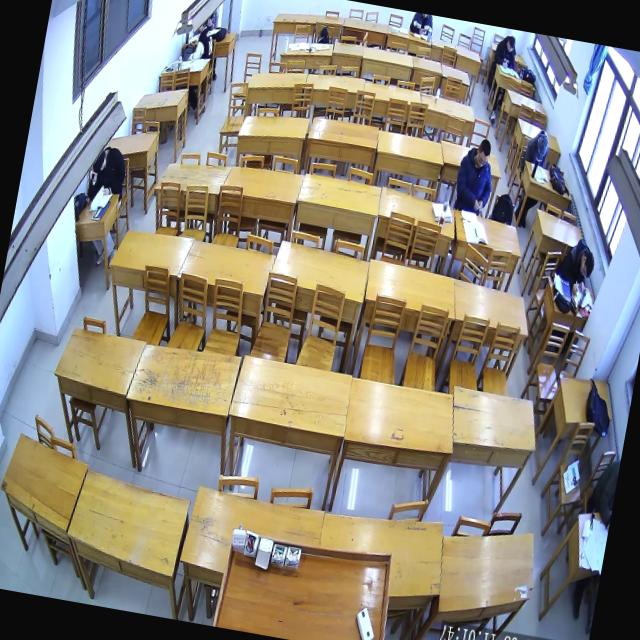down: (472, 136, 493, 172), (576, 250, 596, 282), (90, 148, 109, 178), (533, 132, 551, 160), (504, 34, 517, 55)
sit: (449, 132, 501, 216), (83, 140, 130, 207), (552, 233, 599, 299), (185, 16, 218, 66), (522, 125, 552, 168), (492, 31, 520, 70)
